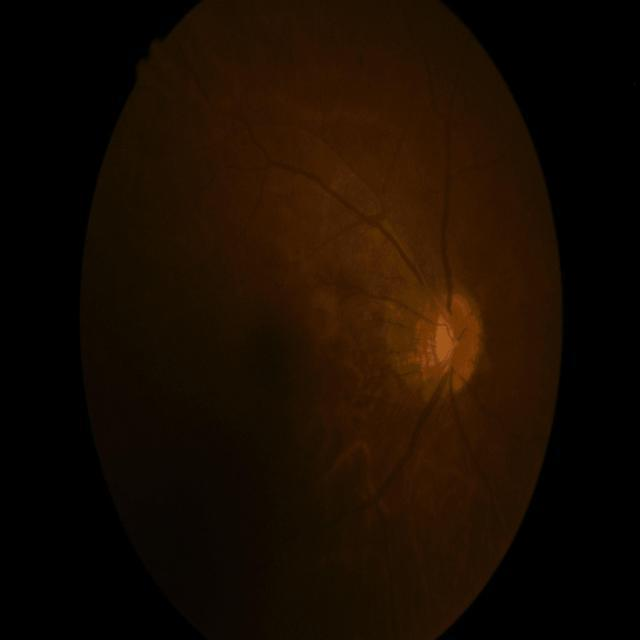cup: (434, 315, 454, 363)
disk: (414, 289, 482, 399)
